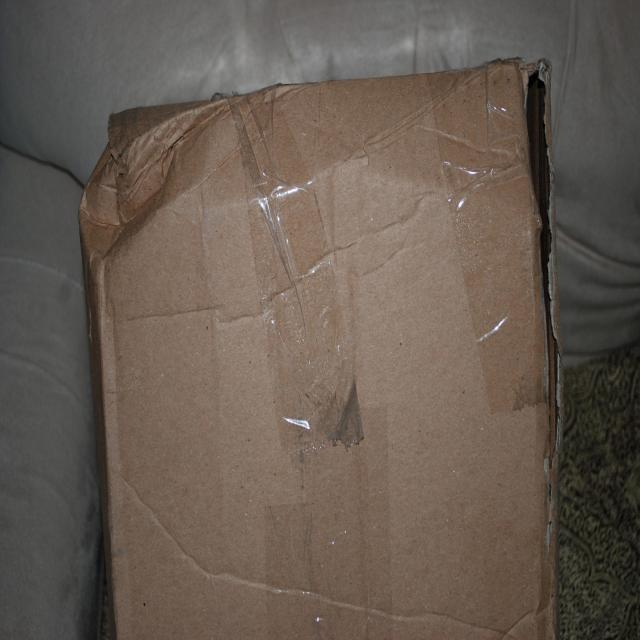damaged: (510, 61, 564, 355)
